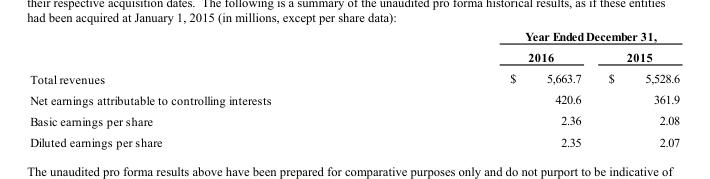table: (29, 28, 679, 148)
table column: (29, 28, 389, 148), (389, 28, 594, 148), (594, 28, 679, 148)
table column header: (29, 28, 679, 67)
table row: (29, 46, 679, 67), (29, 67, 679, 88), (29, 88, 679, 109), (29, 109, 679, 130), (29, 28, 679, 46), (29, 130, 679, 148)
table spanning cell: (389, 28, 679, 46)
